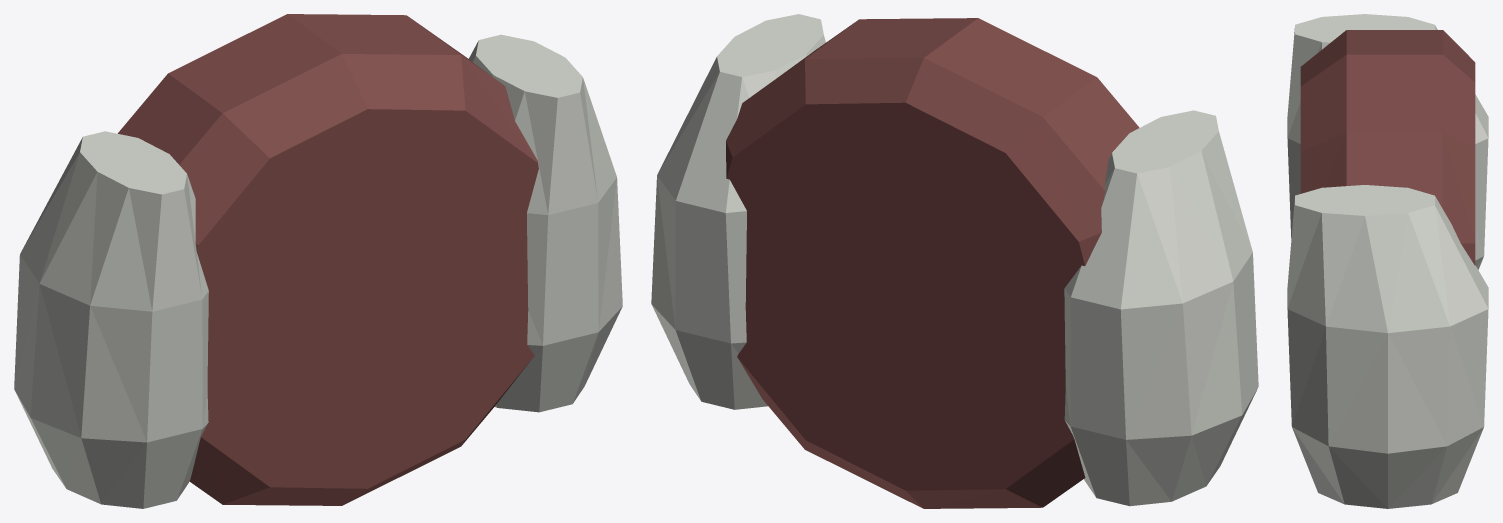
Rendered from warqueen_segment_2.obj.
3 renders of one model, left to right at view 1: azimuth 30°, elevation 25°; view 2: azimuth 150°, elevation 25°; view 3: azimuth 270°, elevation 25°, orthographic. The views are drawn at different scales.
Visible parts, largest first — view 1: warqueen_segment_2; view 2: warqueen_segment_2; view 3: warqueen_segment_2.
Boxes of the visible parts, <box> form: warqueen_segment_2: <box>14,14,622,508</box>; warqueen_segment_2: <box>651,14,1258,508</box>; warqueen_segment_2: <box>1287,14,1488,508</box>.
Size of the model in its own units: 1.28 by 0.96 by 0.4375.
